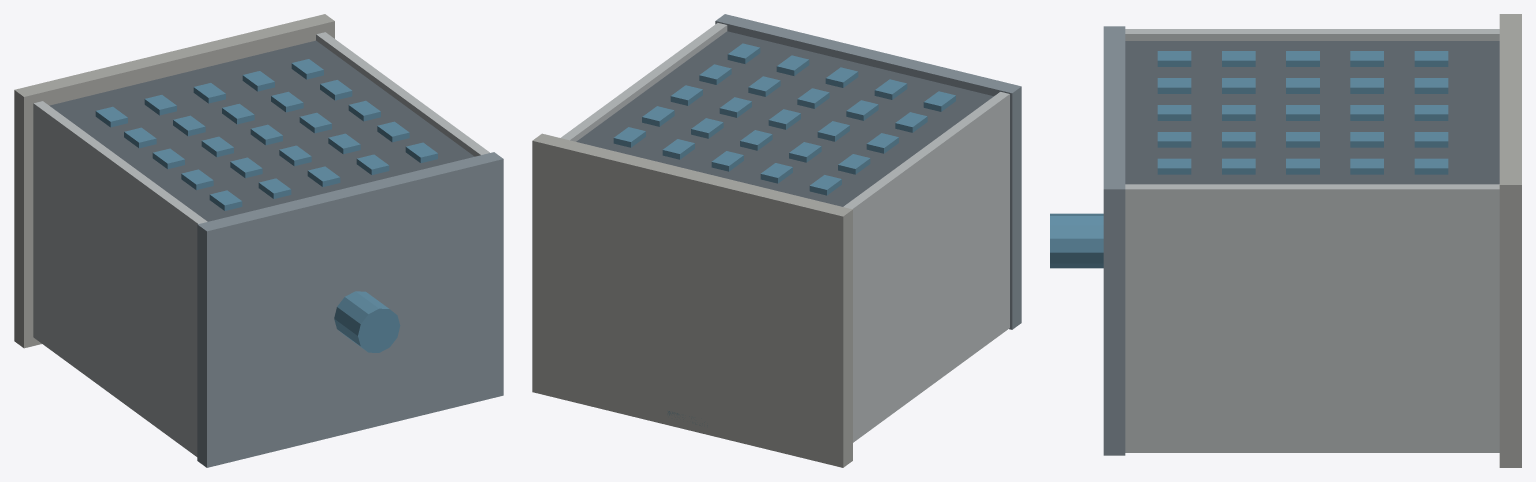
File: AGE_VIII_residential.glb
The picture shows the model from 3 angles, left to right: view 1: azimuth 30°, elevation 25°; view 2: azimuth 150°, elevation 25°; view 3: azimuth 270°, elevation 25°; orthographic projection. The views are drawn at different scales.
Parts seen in each view (by area): view 1: world; view 2: world; view 3: world.
Part boxes in pixels (x1,y1,x2,y2): world: (14,14,503,467); world: (532,14,1021,467); world: (1050,14,1521,467).
Bounding box in the file's own units: 6.6 × 5.1 × 7.7.
